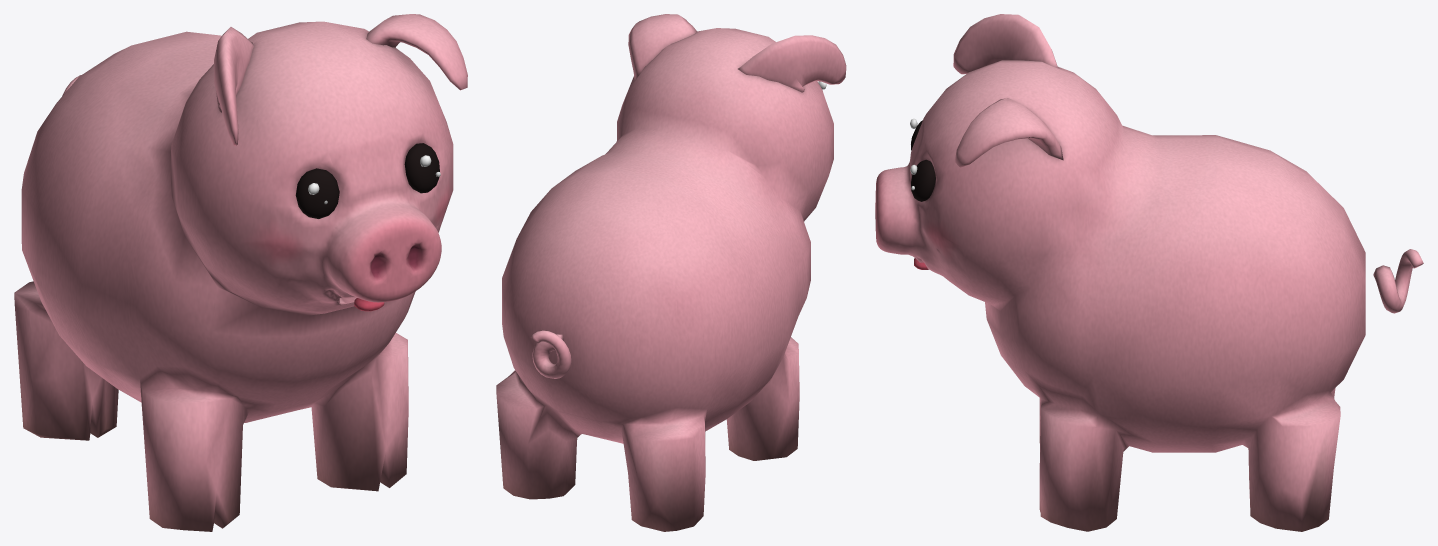
The model's file is piggy.fbx.
The picture shows the model from 3 angles, left to right: view 1: azimuth 30°, elevation 25°; view 2: azimuth 150°, elevation 25°; view 3: azimuth 270°, elevation 25°; orthographic projection. The views are drawn at different scales.
Visible parts, largest first — view 1: Piggy_Body, Piggy_Eyes; view 2: Piggy_Body; view 3: Piggy_Body, Piggy_Eyes.
Boxes of the visible parts, left/top/right/bottom form: Piggy_Body: left=14, top=14, right=467, bottom=531; Piggy_Eyes: left=295, top=143, right=439, bottom=218; Piggy_Body: left=496, top=14, right=846, bottom=531; Piggy_Body: left=875, top=14, right=1423, bottom=531; Piggy_Eyes: left=911, top=120, right=935, bottom=201.
Bounding box in the file's own units: 1.85 × 2.87 × 3.31.
2 materials, 1 textured.
